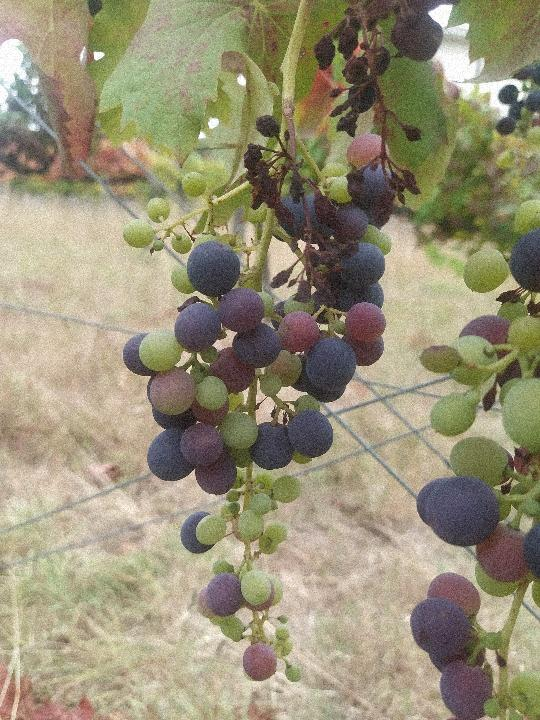grape: (120, 117, 394, 685), (314, 4, 448, 230)
